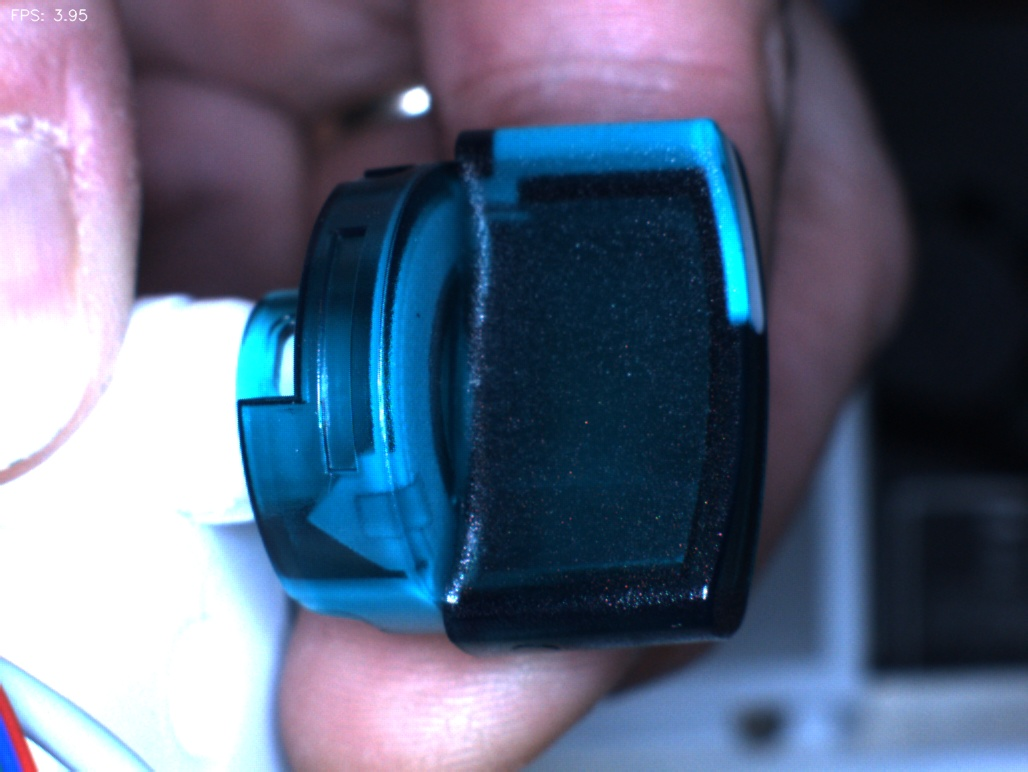PointNoir: (392, 286, 452, 347)
